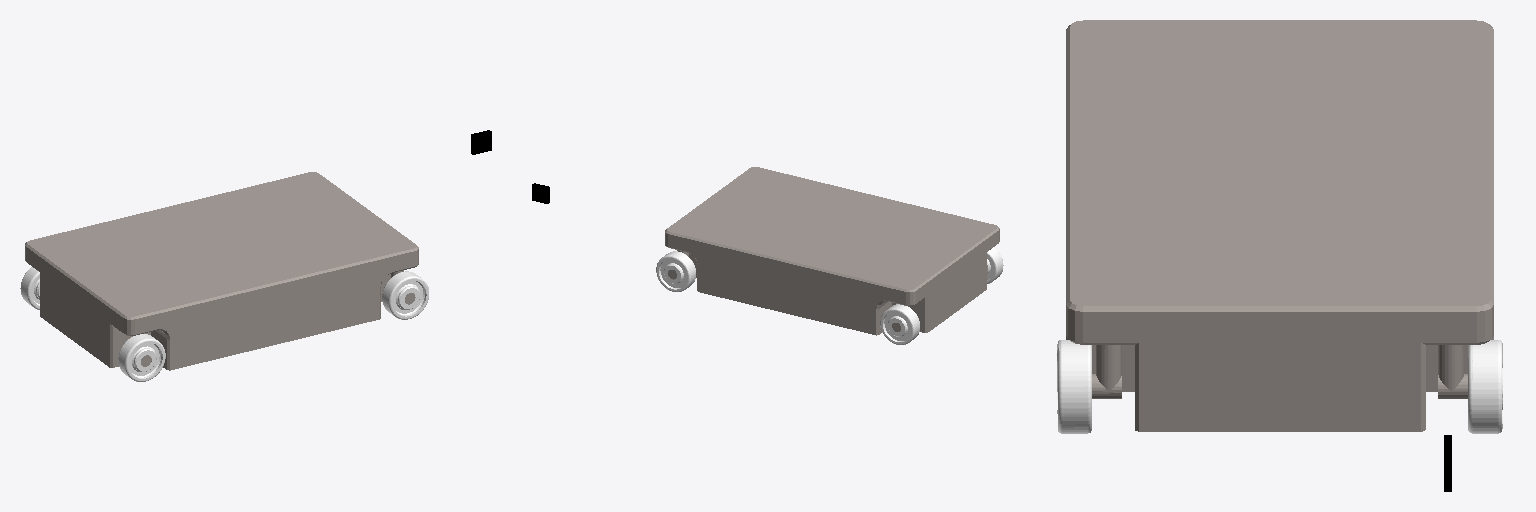
--- Facts derived from the render (not from the file) ---
The picture shows the robot from 3 angles, left to right: view 1: azimuth 30°, elevation 25°; view 2: azimuth 150°, elevation 25°; view 3: azimuth 270°, elevation 25°; orthographic projection.
Model supplybot with 22 links and 21 joints (7 revolute, 6 continuous, 8 fixed), rooted at dummy_link, posed all joints at 0.
Links seen in each view (by area): view 1: base_link, Wheel_R_R, Wheel_F_R, Wheel_R_L; view 2: base_link, Wheel_F_L, Wheel_R_L; view 3: base_link, Wheel_F_L, Wheel_F_R, Axle_F_R, Axle_F_L.
Boxes of the visible links, x1,y1,x2,y2 form: base_link: [25, 172, 418, 370]; Wheel_R_R: [118, 334, 165, 381]; Wheel_F_R: [382, 271, 428, 319]; Wheel_R_L: [20, 267, 39, 309]; base_link: [665, 167, 999, 335]; Wheel_F_L: [656, 251, 695, 291]; Wheel_R_L: [880, 304, 919, 344]; base_link: [1066, 20, 1493, 431]; Wheel_F_L: [1468, 340, 1502, 433]; Wheel_F_R: [1057, 340, 1091, 433]; Axle_F_R: [1092, 345, 1121, 398]; Axle_F_L: [1438, 345, 1467, 398].
Size in the robot's own frame: 1.25 by 0.5206 by 0.1945 metres.
7 mesh visuals loaded from 15 distinct referenced files (7 binary STL); not drawn: 8 (reference not matched to a file when rendering).

robot.urdf — supplybot:
<?xml version="1.0" ?>
<!-- =================================================================================== -->
<!-- |    This document was autogenerated by xacro from my_robot_integration.urdf.xacro | -->
<!-- |    EDITING THIS FILE BY HAND IS NOT RECOMMENDED                                 | -->
<!-- =================================================================================== -->
<!-- Name your robot here -->
<robot name="supplybot">
  <link name="dummy_link">
    <pose> 0 0 0 0 0 0 </pose>
  </link>
  <joint name="dummy_link_joint" type="fixed">
    <parent link="dummy_link"/>
    <child link="base_link"/>
  </joint>
  <link name="base_link">
    <inertial>
      <origin rpy="0 0 0" xyz="-0.00386241766623211 0.0824457625133602 -1.59777658983604E-16"/>
      <mass value="11.5661876561443"/>
      <inertia ixx="0.359530564477518" ixy="-0.00151449503727212" ixz="-9.37559681114183E-17" iyy="1.03987705241032" iyz="-1.37661101327705E-17" izz="0.778582032202739"/>
    </inertial>
    <visual>
      <origin rpy="0 0 0" xyz="0 0 0"/>
      <geometry>
        <mesh filename="package://supplybot/meshes/base_link.STL"/>
      </geometry>
      <material name="">
        <color rgba="0.690196078431373 0.658823529411765 0.63921568627451 1"/>
      </material>
    </visual>
    <collision>
      <origin rpy="0 0 0" xyz="0 0 0"/>
      <geometry>
        <mesh filename="package://supplybot/meshes/base_link.STL"/>
      </geometry>
    </collision>
  </link>
  <link name="Axle_F_R">
    <inertial>
      <origin rpy="0 0 0" xyz="-7.6866584874935E-08 0.0374568477321023 0.0123779121439643"/>
      <mass value="0.0592485540841098"/>
      <inertia ixx="7.57876632175712E-05" ixy="-5.47886766683451E-11" ixz="1.54703037208171E-10" iyy="3.19180980648356E-05" iyz="1.64684878328572E-05" izz="5.32929964107552E-05"/>
    </inertial>
    <visual>
      <origin rpy="0 0 0" xyz="0 0 0"/>
      <geometry>
        <mesh filename="package://supplybot/meshes/Axle_F_R.STL"/>
      </geometry>
      <material name="">
        <color rgba="0.690196078431373 0.658823529411765 0.63921568627451 1"/>
      </material>
    </visual>
    <collision>
      <origin rpy="0 0 0" xyz="0 0 0"/>
      <geometry>
        <mesh filename="package://supplybot/meshes/Axle_F_R.STL"/>
      </geometry>
    </collision>
  </link>
  <joint name="Axle_F_R_Joint" type="continuous">
    <origin rpy="1.5707963267949 0 0.00816600847730061" xyz="0.36 -0.2 0.025"/>
    <parent link="base_link"/>
    <child link="Axle_F_R"/>
    <axis xyz="0 -1 0"/>
    <limit effort="10" lower="-100" upper="100" velocity="100"/>
  </joint>
  <link name="Wheel_F_R">
    <inertial>
      <origin rpy="0 0 0" xyz="1.04083408558608E-17 5.55111512312578E-17 0.0210049906221988"/>
      <mass value="0.2780204490179"/>
      <inertia ixx="0.000258640936212054" ixy="-4.33158297642221E-22" ixz="4.81121331485343E-20" iyy="0.000258640936212053" iyz="1.07996700774923E-20" izz="0.000459707386538612"/>
    </inertial>
    <visual>
      <origin rpy="0 0 0" xyz="0 0 0"/>
      <geometry>
        <mesh filename="package://supplybot/meshes/Wheel_F_R.STL"/>
      </geometry>
      <material name="">
        <color rgba="1 1 1 1"/>
      </material>
    </visual>
    <collision>
      <origin rpy="0 0 0" xyz="0 0 0"/>
      <geometry>
        <mesh filename="package://supplybot/meshes/Wheel_F_R.STL"/>
      </geometry>
    </collision>
  </link>
  <joint name="Wheel_F_R_Joint" type="continuous">
    <origin rpy="0 0 1.59659123567033" xyz="0 0.015 0.0190789108517226"/>
    <parent link="Axle_F_R"/>
    <child link="Wheel_F_R"/>
    <axis xyz="0 0 1"/>
    <limit effort="10" lower="-10000000" upper="10000000" velocity="100"/>
  </joint>
  <link name="Axle_F_L">
    <inertial>
      <origin rpy="0 0 0" xyz="-7.68665847639127E-08 0.0374568477321022 0.0123779121439643"/>
      <mass value="0.0592485540841093"/>
      <inertia ixx="7.57876632175715E-05" ixy="-5.4788676632333E-11" ixz="1.54703037136212E-10" iyy="3.19180980648358E-05" iyz="1.64684878328573E-05" izz="5.32929964107553E-05"/>
    </inertial>
    <visual>
      <origin rpy="0 0 0" xyz="0 0 0"/>
      <geometry>
        <mesh filename="package://supplybot/meshes/Axle_F_L.STL"/>
      </geometry>
      <material name="">
        <color rgba="0.690196078431373 0.658823529411765 0.63921568627451 1"/>
      </material>
    </visual>
    <collision>
      <origin rpy="0 0 0" xyz="0 0 0"/>
      <geometry>
        <mesh filename="package://supplybot/meshes/Axle_F_L.STL"/>
      </geometry>
    </collision>
  </link>
  <joint name="Axle_F_L_Joint" type="continuous">
    <origin rpy="1.5707963267949 0 3.13848766824711" xyz="0.36 0.2 0.025"/>
    <parent link="base_link"/>
    <child link="Axle_F_L"/>
    <axis xyz="0 -1 0"/>
    <limit effort="10" lower="-100" upper="100" velocity="100"/>
  </joint>
  <link name="Wheel_F_L">
    <inertial>
      <origin rpy="0 0 0" xyz="2.77555756156289E-16 1.04083408558608E-17 -0.0199157128899587"/>
      <mass value="0.278020449017899"/>
      <inertia ixx="0.000258640936212053" ixy="4.17775969423003E-21" ixz="1.47807249295875E-19" iyy="0.000258640936212053" iyz="1.08274633460741E-19" izz="0.000459707386538612"/>
    </inertial>
    <visual>
      <origin rpy="0 0 0" xyz="0 0 0"/>
      <geometry>
        <mesh filename="package://supplybot/meshes/Wheel_F_L.STL"/>
      </geometry>
      <material name="">
        <color rgba="1 1 1 1"/>
      </material>
    </visual>
    <collision>
      <origin rpy="0 0 0" xyz="0 0 0"/>
      <geometry>
        <mesh filename="package://supplybot/meshes/Wheel_F_L.STL"/>
      </geometry>
    </collision>
  </link>
  <joint name="Wheel_F_L_Joint" type="continuous">
    <origin rpy="-3.14159265358979 0 3.09866620889398" xyz="0 0.015 0.0200003856361195"/>
    <parent link="Axle_F_L"/>
    <child link="Wheel_F_L"/>
    <axis xyz="0 0 1"/>
    <limit effort="10" lower="-10000000" upper="10000000" velocity="100"/>
  </joint>
  <link name="Wheel_R_R">
    <inertial>
      <origin rpy="0 0 0" xyz="0 6.93889390390723E-18 0.0200839014739214"/>
      <mass value="0.278020449017899"/>
      <inertia ixx="0.000258640936212053" ixy="-1.44232257273874E-36" ixz="-2.73056552552915E-21" iyy="0.000258640936212053" iyz="-4.89024017041303E-36" izz="0.000459707386538612"/>
    </inertial>
    <visual>
      <origin rpy="0 0 0" xyz="0 0 0"/>
      <geometry>
        <mesh filename="package://supplybot/meshes/Wheel_R_R.STL"/>
      </geometry>
      <material name="">
        <color rgba="1 1 1 1"/>
      </material>
    </visual>
    <collision>
      <origin rpy="0 0 0" xyz="0 0 0"/>
      <geometry>
        <mesh filename="package://supplybot/meshes/Wheel_R_R.STL"/>
      </geometry>
    </collision>
  </link>
  <joint name="Wheel_R_R_Joint" type="continuous">
    <origin rpy="1.5707963267949 0 0" xyz="-0.35 -0.21 0.04"/>
    <parent link="base_link"/>
    <child link="Wheel_R_R"/>
    <axis xyz="0 0 1"/>
    <limit effort="10" lower="-10000000" upper="10000000" velocity="100"/>
  </joint>
  <link name="Wheel_R_L">
    <inertial>
      <origin rpy="0 0 0" xyz="5.55111512312578E-17 -6.93889390390723E-18 -0.0199160985260785"/>
      <mass value="0.278020449017899"/>
      <inertia ixx="0.000258640936212053" ixy="9.45382773994814E-37" ixz="-2.73056552552915E-21" iyy="0.000258640936212053" iyz="3.00761249917421E-36" izz="0.000459707386538612"/>
    </inertial>
    <visual>
      <origin rpy="0 0 0" xyz="0 0 0"/>
      <geometry>
        <mesh filename="package://supplybot/meshes/Wheel_R_L.STL"/>
      </geometry>
      <material name="">
        <color rgba="1 1 1 1"/>
      </material>
    </visual>
    <collision>
      <origin rpy="0 0 0" xyz="0 0 0"/>
      <geometry>
        <mesh filename="package://supplybot/meshes/Wheel_R_L.STL"/>
      </geometry>
    </collision>
  </link>
  <joint name="Wheel_R_L_Joint" type="continuous">
    <origin rpy="1.5707963267949 0 0" xyz="-0.35 0.21 0.04"/>
    <parent link="base_link"/>
    <child link="Wheel_R_L"/>
    <axis xyz="0 0 1"/>
    <limit effort="10" lower="-10000000" upper="10000000" velocity="100"/>
  </joint>
  <!--TRANSMISSIONS-->
  <transmission name="Axle_F_R_Trans">
    <type>transmission_interface/SimpleTransmission</type>
    <joint name="Axle_F_R_Joint">
      <hardwareInterface>hardware_interface/EffortJointInterface</hardwareInterface>
    </joint>
    <actuator name="Axle_F_R_Act">
      <mechanicalReduction>1</mechanicalReduction>
      <hardwareInterface>hardware_interface/EffortJointInterface</hardwareInterface>
    </actuator>
  </transmission>
  <transmission name="Axle_F_L_Trans">
    <type>transmission_interface/SimpleTransmission</type>
    <joint name="Axle_F_L_Joint">
      <hardwareInterface>hardware_interface/EffortJointInterface</hardwareInterface>
    </joint>
    <actuator name="Axle_F_L_Act">
      <mechanicalReduction>1</mechanicalReduction>
      <hardwareInterface>hardware_interface/EffortJointInterface</hardwareInterface>
    </actuator>
  </transmission>
  <transmission name="Wheel_R_R_Trans">
    <type>transmission_interface/SimpleTransmission</type>
    <joint name="Wheel_R_R_Joint">
      <hardwareInterface>hardware_interface/VelocityJointInterface</hardwareInterface>
    </joint>
    <actuator name="Wheel_R_R_Act">
      <mechanicalReduction>1</mechanicalReduction>
      <hardwareInterface>hardware_interface/VelocityJointInterface</hardwareInterface>
    </actuator>
  </transmission>
  <transmission name="Wheel_R_L_Trans">
    <type>transmission_interface/SimpleTransmission</type>
    <joint name="Wheel_R_L_Joint">
      <hardwareInterface>hardware_interface/VelocityJointInterface</hardwareInterface>
    </joint>
    <actuator name="Wheel_R_L_Act">
      <mechanicalReduction>1</mechanicalReduction>
      <hardwareInterface>hardware_interface/VelocityJointInterface</hardwareInterface>
    </actuator>
  </transmission>
  <!--
    Base UR robot series xacro macro.

    NOTE: this is NOT a URDF. It cannot directly be loaded by consumers
    expecting a flattened '.urdf' file. See the top-level '.xacro' for that
    (but note: that .xacro must still be processed by the xacro command).

    For use in '.launch' files: use one of the 'load_urX.launch' convenience
    launch files.

    This file models the base kinematic chain of a UR robot, which then gets
    parameterised by various configuration files to convert it into a UR3(e),
    UR5(e), UR10(e) or UR16e.

    NOTE: the default kinematic parameters (ie: link lengths, frame locations,
    offets, etc) do not correspond to any particular robot. They are defaults
    only. There WILL be non-zero offsets between the Forward Kinematics results
    in TF (ie: robot_state_publisher) and the values reported by the Teach
    Pendant.

    For accurate (and robot-specific) transforms, the 'kinematics_parameters_file'
    parameter MUST point to a .yaml file containing the appropriate values for
    the targetted robot.

    If using the UniversalRobots/Universal_Robots_ROS_Driver, follow the steps
    described in the readme of that repository to extract the kinematic
    calibration from the controller and generate the required .yaml file.

    Main author of the migration to yaml configs: Ludovic Delval.

    Contributors to previous versions (in no particular order):

     - Felix Messmer
     - Kelsey Hawkins
     - Wim Meeussen
     - Shaun Edwards
     - Nadia Hammoudeh Garcia
     - Dave Hershberger
     - G. vd. Hoorn
     - Philip Long
     - Dave Coleman
     - Miguel Prada
     - Mathias Luedtke
     - Marcel Schnirring
     - Felix von Drigalski
     - Felix Exner
     - Jimmy Da Silva
     - Ajit Krisshna N L
     - Muhammad Asif Rana
  -->
  <!--
    NOTE: the macro defined in this file is NOT part of the public API of this
          package. Users CANNOT rely on this file being available, or stored in
          this location. Nor can they rely on the existence of the macro.
  -->
    <!--TRANSMISSION FOR ROBOT ARM-->
  <transmission name="ur5_robot_shoulder_pan_trans">
    <type>transmission_interface/SimpleTransmission</type>
    <joint name="ur5_robot_shoulder_pan_joint">
      <hardwareInterface>hardware_interface/EffortJointInterface</hardwareInterface>
    </joint>
    <actuator name="ur5_robot_shoulder_pan_motor">
      <mechanicalReduction>1</mechanicalReduction>
    </actuator>
  </transmission>
  <transmission name="ur5_robot_shoulder_lift_trans">
    <type>transmission_interface/SimpleTransmission</type>
    <joint name="ur5_robot_shoulder_lift_joint">
      <hardwareInterface>hardware_interface/EffortJointInterface</hardwareInterface>
    </joint>
    <actuator name="ur5_robot_shoulder_lift_motor">
      <mechanicalReduction>1</mechanicalReduction>
    </actuator>
  </transmission>
  <transmission name="ur5_robot_elbow_trans">
    <type>transmission_interface/SimpleTransmission</type>
    <joint name="ur5_robot_elbow_joint">
      <hardwareInterface>hardware_interface/EffortJointInterface</hardwareInterface>
    </joint>
    <actuator name="ur5_robot_elbow_motor">
      <mechanicalReduction>1</mechanicalReduction>
    </actuator>
  </transmission>
  <transmission name="ur5_robot_wrist_1_trans">
    <type>transmission_interface/SimpleTransmission</type>
    <joint name="ur5_robot_wrist_1_joint">
      <hardwareInterface>hardware_interface/EffortJointInterface</hardwareInterface>
    </joint>
    <actuator name="ur5_robot_wrist_1_motor">
      <mechanicalReduction>1</mechanicalReduction>
    </actuator>
  </transmission>
  <transmission name="ur5_robot_wrist_2_trans">
    <type>transmission_interface/SimpleTransmission</type>
    <joint name="ur5_robot_wrist_2_joint">
      <hardwareInterface>hardware_interface/EffortJointInterface</hardwareInterface>
    </joint>
    <actuator name="ur5_robot_wrist_2_motor">
      <mechanicalReduction>1</mechanicalReduction>
    </actuator>
  </transmission>
  <transmission name="ur5_robot_wrist_3_trans">
    <type>transmission_interface/SimpleTransmission</type>
    <joint name="ur5_robot_wrist_3_joint">
      <hardwareInterface>hardware_interface/EffortJointInterface</hardwareInterface>
    </joint>
    <actuator name="ur5_robot_wrist_3_motor">
      <mechanicalReduction>1</mechanicalReduction>
    </actuator>
  </transmission>

  <!-- links: main serial chain -->
  <link name="ur5_robot_base_link"/>
  <link name="ur5_robot_base_link_inertia">
    <visual>
      <origin rpy="0 0 3.141592653589793" xyz="0 0 0"/>
      <geometry>
        <mesh filename="package://supplybot/meshes/ur5/visual/base.dae"/>
      </geometry>
      <material name="LightGrey">
        <color rgba="0.7 0.7 0.7 1.0"/>
      </material>
    </visual>
    <collision>
      <origin rpy="0 0 3.141592653589793" xyz="0 0 0"/>
      <geometry>
        <mesh filename="package://supplybot/meshes/ur5/collision/base.stl"/>
      </geometry>
    </collision>
    <inertial>
      <mass value="4.0"/>
      <origin rpy="0 0 0" xyz="0 0 0"/>
      <inertia ixx="0.00443333156" ixy="0.0" ixz="0.0" iyy="0.00443333156" iyz="0.0" izz="0.0072"/>
    </inertial>
  </link>
  <link name="ur5_robot_shoulder_link">
    <visual>
      <origin rpy="0 0 3.141592653589793" xyz="0 0 0"/>
      <geometry>
        <mesh filename="package://supplybot/meshes/ur5/visual/shoulder.dae"/>
      </geometry>
      <material name="LightGrey">
        <color rgba="0.7 0.7 0.7 1.0"/>
      </material>
    </visual>
    <collision>
      <origin rpy="0 0 3.141592653589793" xyz="0 0 0"/>
      <geometry>
        <mesh filename="package://supplybot/meshes/ur5/collision/shoulder.stl"/>
      </geometry>
    </collision>
    <inertial>
      <mass value="3.7"/>
      <origin rpy="0 0 0" xyz="0 0 0"/>
      <inertia ixx="0.014972352344389999" ixy="0.0" ixz="0.0" iyy="0.014972352344389999" iyz="0.0" izz="0.01040625"/>
    </inertial>
  </link>
  <link name="ur5_robot_upper_arm_link">
    <visual>
      <origin rpy="1.5707963267948966 0 -1.5707963267948966" xyz="0 0 0.13585"/>
      <geometry>
        <mesh filename="package://supplybot/meshes/ur5/visual/upperarm.dae"/>
      </geometry>
      <material name="LightGrey">
        <color rgba="0.7 0.7 0.7 1.0"/>
      </material>
    </visual>
    <collision>
      <origin rpy="1.5707963267948966 0 -1.5707963267948966" xyz="0 0 0.13585"/>
      <geometry>
        <mesh filename="package://supplybot/meshes/ur5/collision/upperarm.stl"/>
      </geometry>
    </collision>
    <inertial>
      <mass value="8.393"/>
      <origin rpy="0 1.5707963267948966 0" xyz="-0.2125 0.0 0.136"/>
      <inertia ixx="0.1338857818623325" ixy="0.0" ixz="0.0" iyy="0.1338857818623325" iyz="0.0" izz="0.0151074"/>
    </inertial>
  </link>
  <link name="ur5_robot_forearm_link">
    <visual>
      <origin rpy="1.5707963267948966 0 -1.5707963267948966" xyz="0 0 0.0165"/>
      <geometry>
        <mesh filename="package://supplybot/meshes/ur5/visual/forearm.dae"/>
      </geometry>
      <material name="LightGrey">
        <color rgba="0.7 0.7 0.7 1.0"/>
      </material>
    </visual>
    <collision>
      <origin rpy="1.5707963267948966 0 -1.5707963267948966" xyz="0 0 0.0165"/>
      <geometry>
        <mesh filename="package://supplybot/meshes/ur5/collision/forearm.stl"/>
      </geometry>
    </collision>
    <inertial>
      <mass value="2.275"/>
      <origin rpy="0 1.5707963267948966 0" xyz="-0.196125 0.0 0.0165"/>
      <inertia ixx="0.03121679102890359" ixy="0.0" ixz="0.0" iyy="0.03121679102890359" iyz="0.0" izz="0.004095"/>
    </inertial>
  </link>
  <link name="ur5_robot_wrist_1_link">
    <visual>
      <!-- TODO: Move this to a parameter -->
      <origin rpy="1.5707963267948966 0 0" xyz="0 0 -0.093"/>
      <geometry>
        <mesh filename="package://supplybot/meshes/ur5/visual/wrist1.dae"/>
      </geometry>
      <material name="LightGrey">
        <color rgba="0.7 0.7 0.7 1.0"/>
      </material>
    </visual>
    <collision>
      <origin rpy="1.5707963267948966 0 0" xyz="0 0 -0.093"/>
      <geometry>
        <mesh filename="package://supplybot/meshes/ur5/collision/wrist1.stl"/>
      </geometry>
    </collision>
    <inertial>
      <mass value="1.219"/>
      <origin rpy="0 0 0" xyz="0 0 0"/>
      <inertia ixx="0.0020138887777775" ixy="0.0" ixz="0.0" iyy="0.0020138887777775" iyz="0.0" izz="0.0021942"/>
    </inertial>
  </link>
  <link name="ur5_robot_wrist_2_link">
    <visual>
      <origin rpy="0 0 0" xyz="0 0 -0.095"/>
      <geometry>
        <mesh filename="package://supplybot/meshes/ur5/visual/wrist2.dae"/>
      </geometry>
      <material name="LightGrey">
        <color rgba="0.7 0.7 0.7 1.0"/>
      </material>
    </visual>
    <collision>
      <origin rpy="0 0 0" xyz="0 0 -0.095"/>
      <geometry>
        <mesh filename="package://supplybot/meshes/ur5/collision/wrist2.stl"/>
      </geometry>
    </collision>
    <inertial>
      <mass value="1.219"/>
      <origin rpy="0 0 0" xyz="0 0 0"/>
      <inertia ixx="0.0018310388509175" ixy="0.0" ixz="0.0" iyy="0.0018310388509175" iyz="0.0" izz="0.0021942"/>
    </inertial>
  </link>
  <link name="ur5_robot_wrist_3_link">
    <visual>
      <origin rpy="1.5707963267948966 0 0" xyz="0 0 -0.0818"/>
      <geometry>
        <mesh filename="package://supplybot/meshes/ur5/visual/wrist3.dae"/>
      </geometry>
      <material name="LightGrey">
        <color rgba="0.7 0.7 0.7 1.0"/>
      </material>
    </visual>
    <collision>
      <origin rpy="1.5707963267948966 0 0" xyz="0 0 -0.0818"/>
      <geometry>
        <mesh filename="package://supplybot/meshes/ur5/collision/wrist3.stl"/>
      </geometry>
    </collision>
    <inertial>
      <mass value="0.1879"/>
      <origin rpy="0 0 0" xyz="0.0 0.0 -0.01525"/>
      <inertia ixx="8.062472608343e-05" ixy="0.0" ixz="0.0" iyy="8.062472608343e-05" iyz="0.0" izz="0.0001321171875"/>
    </inertial>
  </link>
  <!-- joints: main serial chain -->
  <joint name="ur5_robot_base_link-base_link_inertia" type="fixed">
    <parent link="ur5_robot_base_link"/>
    <child link="ur5_robot_base_link_inertia"/>
    <!-- 'base_link' is REP-103 aligned (so X+ forward), while the internal
           frames of the robot/controller have X+ pointing backwards.
           Use the joint between 'base_link' and 'base_link_inertia' (a dummy
           link/frame) to introduce the necessary rotation over Z (of pi rad).
      -->
    <origin rpy="0 0 3.141592653589793" xyz="0 0 0"/>
  </joint>
  <joint name="ur5_robot_shoulder_pan_joint" type="revolute">
    <parent link="ur5_robot_base_link_inertia"/>
    <child link="ur5_robot_shoulder_link"/>
    <origin rpy="0 0 0" xyz="0 0 0.089159"/>
    <axis xyz="0 0 1"/>
    <limit effort="150.0" lower="-6.283185307179586" upper="6.283185307179586" velocity="3.141592653589793"/>
    <dynamics damping="0" friction="0"/>
  </joint>
  <joint name="ur5_robot_shoulder_lift_joint" type="revolute">
    <parent link="ur5_robot_shoulder_link"/>
    <child link="ur5_robot_upper_arm_link"/>
    <origin rpy="1.570796327 0 0" xyz="0 0 0"/>
    <axis xyz="0 0 1"/>
    <limit effort="150.0" lower="-6.283185307179586" upper="6.283185307179586" velocity="3.141592653589793"/>
    <dynamics damping="0" friction="0"/>
  </joint>
  <joint name="ur5_robot_elbow_joint" type="revolute">
    <parent link="ur5_robot_upper_arm_link"/>
    <child link="ur5_robot_forearm_link"/>
    <origin rpy="0 0 0" xyz="-0.425 0 0"/>
    <axis xyz="0 0 1"/>
    <limit effort="150.0" lower="-3.141592653589793" upper="3.141592653589793" velocity="3.141592653589793"/>
    <dynamics damping="0" friction="0"/>
  </joint>
  <joint name="ur5_robot_wrist_1_joint" type="revolute">
    <parent link="ur5_robot_forearm_link"/>
    <child link="ur5_robot_wrist_1_link"/>
    <origin rpy="0 0 0" xyz="-0.39225 0 0.10915"/>
    <axis xyz="0 0 1"/>
    <limit effort="28.0" lower="-6.283185307179586" upper="6.283185307179586" velocity="3.141592653589793"/>
    <dynamics damping="0" friction="0"/>
  </joint>
  <joint name="ur5_robot_wrist_2_joint" type="revolute">
    <parent link="ur5_robot_wrist_1_link"/>
    <child link="ur5_robot_wrist_2_link"/>
    <origin rpy="1.570796327 0 0" xyz="0 -0.09465 -1.941303950897609e-11"/>
    <axis xyz="0 0 1"/>
    <limit effort="28.0" lower="-6.283185307179586" upper="6.283185307179586" velocity="3.141592653589793"/>
    <dynamics damping="0" friction="0"/>
  </joint>
  <joint name="ur5_robot_wrist_3_joint" type="revolute">
    <parent link="ur5_robot_wrist_2_link"/>
    <child link="ur5_robot_wrist_3_link"/>
    <origin rpy="1.570796326589793 3.141592653589793 3.141592653589793" xyz="0 0.0823 -1.688001216681175e-11"/>
    <axis xyz="0 0 1"/>
    <limit effort="28.0" lower="-6.283185307179586" upper="6.283185307179586" velocity="3.141592653589793"/>
    <dynamics damping="0" friction="0"/>
  </joint>
  <!-- ROS-Industrial 'base' frame: base_link to UR 'Base' Coordinates transform -->
  <link name="ur5_robot_base"/>
  <joint name="ur5_robot_base_link-base_fixed_joint" type="fixed">
    <!-- Note the rotation over Z of pi radians: as base_link is REP-103
           aligned (ie: has X+ forward, Y+ left and Z+ up), this is needed
           to correctly align 'base' with the 'Base' coordinate system of
           the UR controller.
      -->
    <origin rpy="0 0 3.141592653589793" xyz="0 0 0"/>
    <parent link="ur5_robot_base_link"/>
    <child link="ur5_robot_base"/>
  </joint>
  <!-- ROS-Industrial 'flange' frame: attachment point for EEF models -->
  <link name="ur5_robot_flange"/>
  <joint name="ur5_robot_wrist_3-flange" type="fixed">
    <parent link="ur5_robot_wrist_3_link"/>
    <child link="ur5_robot_flange"/>
    <origin rpy="0 -1.5707963267948966 -1.5707963267948966" xyz="0 0 0"/>
  </joint>
  <!-- ROS-Industrial 'tool0' frame: all-zeros tool frame -->
  <link name="ur5_robot_tool0"/>
  <joint name="ur5_robot_flange-tool0" type="fixed">
    <!-- default toolframe: X+ left, Y+ up, Z+ front -->
    <origin rpy="1.5707963267948966 0 1.5707963267948966" xyz="0 0 0"/>
    <parent link="ur5_robot_flange"/>
    <child link="ur5_robot_tool0"/>
  </joint>
  <!--  Gazebo plugin for control here is already added for you -->
  <gazebo>
    <plugin filename="libgazebo_ros_control.so" name="gazebo_ros_control">
      <robotNamespace>/supplybot</robotNamespace>
      <robotSimType>gazebo_ros_control/DefaultRobotHWSim</robotSimType>
      <legacyModeNS>true</legacyModeNS>
    </plugin>
  </gazebo>
  <!-- Create a joint between your robot and sensor -->
  <joint name="supplybot" type="fixed">
    <origin rpy="0 0 0" xyz="0 0 0.16"/>
    <parent link="dummy_link"/>
    <child link="ur5_robot_base_link"/>
    <axis xyz="0 0 0"/>
  </joint>

<!--END EFFECTOR-->

  <link name="left_end_effector">
  <gravity>0</gravity>
  <visual>
  <origin rpy="0 0 0" xyz="0 0 0"/>
    <geometry>
      <box size="0.05 0.05 0.01"/>
    </geometry>
    <material name="transparent">
    <color rgba="0 0 0 0"/>
    </material>
  </visual>
  <inertial>
    <origin rpy="0 0 0" xyz="0.000000 0.000000 0.000000"/>
    <mass value="0.0001"/>
    <inertia ixx="1e-08" ixy="0" ixz="0" iyy="1e-08" iyz="0" izz="1e-08"/>
  </inertial>
  </link>
  <joint name="left_end_joint" type="revolute">
    <parent link="ur5_robot_wrist_3_link" />
    <child link="left_end_effector" />
    <origin rpy="0 0 0" xyz="0 0 0.005" />
    <limit effort="30" velocity="1.0" lower="0" upper="0" />
  </joint>
  <gazebo>
    <plugin name="gazebo_ros_vacuum_gripper" filename="libgazebo_ros_vacuum_gripper.so">
      <robotNamespace>/robot/left_vacuum_gripper</robotNamespace>
      <bodyName>left_end_effector</bodyName>
      <topicName>grasping</topicName>
    </plugin>
  </gazebo> 


<!--LASER-->
  
  <link name="base_laser">
    <inertial>
      <origin rpy="0 0 0" xyz="-0.00029774 0.0066667 0.00013047"/>
      <mass value="0.15717"/>
      <inertia ixx="6.7885E-05" ixy="-1.3987E-07" ixz="-8.1554E-07" iyy="0.00013173" iyz="-9.0932E-08" izz="7.1972E-05"/>
    </inertial>
    <visual>
      <origin rpy="0 0 0" xyz="0 0 0"/>
      <geometry>
        <mesh filename="package://supplybot/meshes/ydlidar.dae"/>
      </geometry>
      <material name="">
        <color rgba="0.64706 0.61961 0.58824 1"/>
      </material>
    </visual>
    <collision>
      <origin rpy="0 0 0" xyz="0 0 0"/>
      <geometry>
        <mesh filename="package://supplybot/meshes/ydlidar.dae"/>
      </geometry>
    </collision>
  </link>
  <link name="laser_frame">
    <inertial>
      <origin rpy="0 0 0" xyz="-0.00036659 0.00064155 -0.00027052"/>
      <mass value="0.25482"/>
      <inertia ixx="8.9194E-05" ixy="1.8116E-07" ixz="3.6435E-08" iyy="0.00018279" iyz="2.423E-07" izz="0.00011103"/>
    </inertial>
    <!--visual>
      <origin
        xyz="0 0 0"
        rpy="0 0 0" />
      <geometry>
        <mesh
          filename="package://cyber_truck/meshes/ydlidar.dae" />
      </geometry>
      <material
        name="">
        <color
          rgba="0.64706 0.61961 0.58824 1" />
      </material>
    </visual-->
    <!--collision>
      <origin
        xyz="0 0 0"
        rpy="0 0 0" />
      <geometry>
        <mesh
          filename="package://cyber_truck/meshes/ydlidar.dae" />
      </geometry>
    </collision-->
  </link>
  <joint name="laser_joint" type="fixed">
    <origin rpy="0 0 0" xyz="0 0 0"/>
    <parent link="base_laser"/>
    <child link="laser_frame"/>
    <axis xyz="0 0 0"/>
  </joint>
  <!-- Add your gazebo sensors here -->
  <gazebo reference="base_laser">
    <!-- <gravity>true</gravity> -->
    <!-- Gazebo has fixed set of Sensors types. Check them out here <> -->
    <sensor name="laser" type="ray">
      <!-- Add in your sensor characteristics -->
      <pose> 0 0 0 0 0 0 </pose>
      <visualise>true</visualise>
      <update_rate>40</update_rate>
      <!-- <always_on>true</always_on> -->
      <ray>
        <scan>
          <horizontal>
            <samples>720</samples>
            <resolution>1</resolution>
            <min_angle>-1.570796</min_angle>
            <max_angle>1.570796</max_angle>
          </horizontal>
        </scan>
        <range>
          <min>0.10</min>
          <max>30.0</max>
          <resolution>0.01</resolution>
        </range>
        <noise>
          <type>gaussian</type>
          <mean>0.0</mean>
          <stddev>0.01</stddev>
        </noise>
      </ray>
      
      <plugin filename="libgazebo_ros_laser.so" name="gazebo_ros_head_hokuyo_controller">
        <!-- Use topic name as /my_robot/scan -->
        <topicName>/supplybot/scan</topicName>
        <frameName>laser_frame</frameName>
      </plugin>
    </sensor>
  </gazebo>
  <!--  Gazebo plugin for control here is already added for you -->
  <gazebo>
    <plugin filename="libgazebo_ros_control.so" name="gazebo_ros_control">
      <robotNamespace>/supplybot</robotNamespace>
      <robotSimType>gazebo_ros_control/DefaultRobotHWSim</robotSimType>
      <legacyModeNS>true</legacyModeNS>
    </plugin>
  </gazebo>
  <!-- Create a joint between your robot and sensor -->
  <joint name="lidar_joint" type="fixed">
    <origin rpy="0 0 0" xyz="0.3 0.2 0.16"/>
    <parent link="base_link"/>
    <child link="base_laser"/>
    <axis xyz="0 0 0"/>
  </joint> 
</robot>
